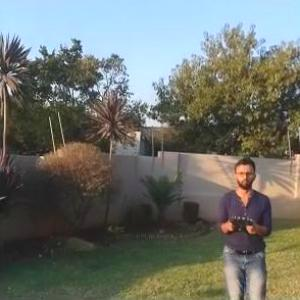follow: (214, 153, 274, 299)
